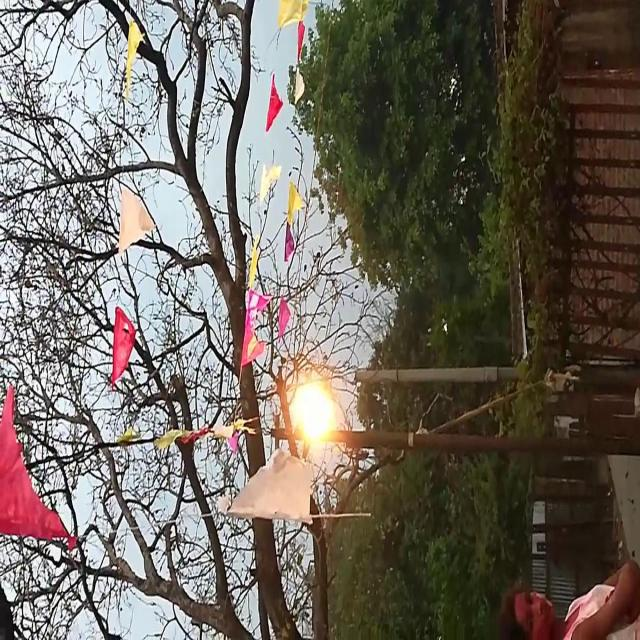other: (289, 362, 345, 466)
